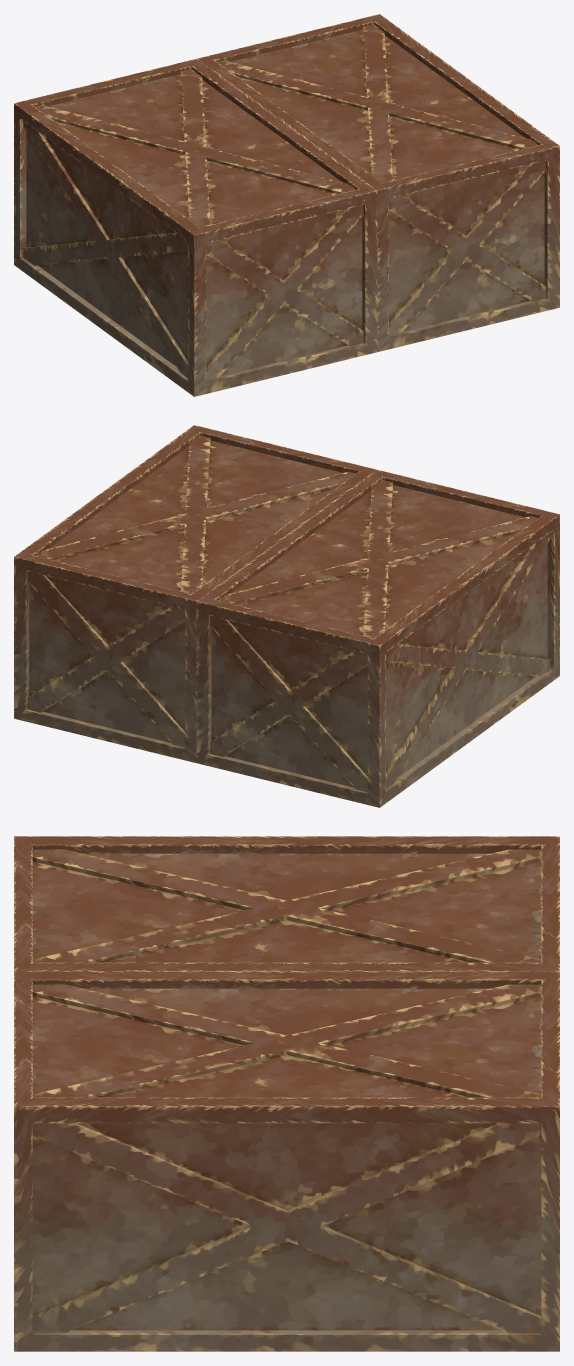
File: BoxObstacles.fbx
3 renders of one model, top to bottom at view 1: azimuth 30°, elevation 25°; view 2: azimuth 150°, elevation 25°; view 3: azimuth 270°, elevation 25°, orthographic. The views are drawn at different scales.
Visible parts, largest first — view 1: Cube.022; view 2: Cube.022; view 3: Cube.022.
Boxes of the visible parts, x1,y1,x2,y2 form: Cube.022: (14,14,559,396); Cube.022: (14,425,559,807); Cube.022: (14,836,559,1351).
Bounding box in the file's own units: 59.81 × 25.27 × 51.03.
